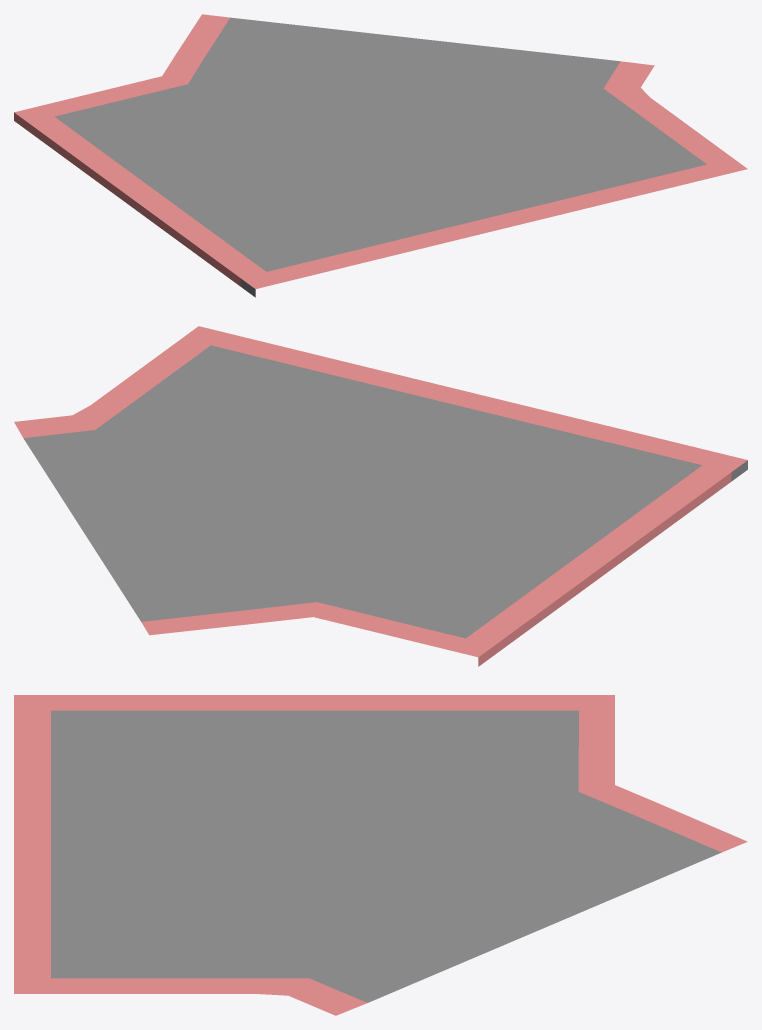
Rendered from S_Envi_Fyz_Building_113g.gltf.
The picture shows the model from 3 angles, top to bottom: view 1: azimuth 30°, elevation 25°; view 2: azimuth 150°, elevation 25°; view 3: azimuth 270°, elevation 25°; orthographic projection. The views are drawn at different scales.
Visible parts, largest first — view 1: S_Envi_Fyz_Building_113g; view 2: S_Envi_Fyz_Building_113g; view 3: S_Envi_Fyz_Building_113g.
Part boxes in pixels (<box>): S_Envi_Fyz_Building_113g: <box>14,14,747,297</box>; S_Envi_Fyz_Building_113g: <box>14,326,747,666</box>; S_Envi_Fyz_Building_113g: <box>14,695,747,1015</box>.
Size of the model in its own units: 7.25 by 0.1115 by 7.01.
